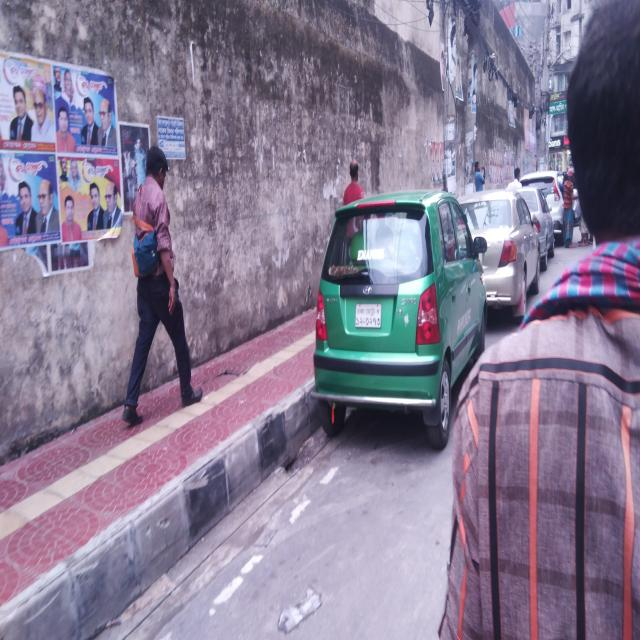car: (313, 190, 483, 432), (468, 190, 540, 312), (518, 180, 560, 263)
